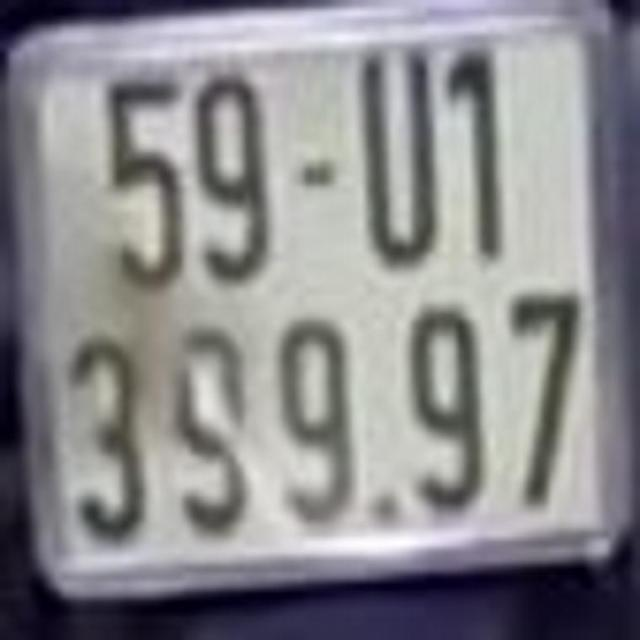1: (441, 40, 512, 261)
3: (66, 332, 146, 540)
5: (100, 70, 186, 294)
7: (507, 284, 591, 502)
9: (191, 65, 276, 281), (274, 313, 358, 528), (171, 315, 253, 535), (406, 306, 484, 514)
U: (353, 51, 444, 263)
